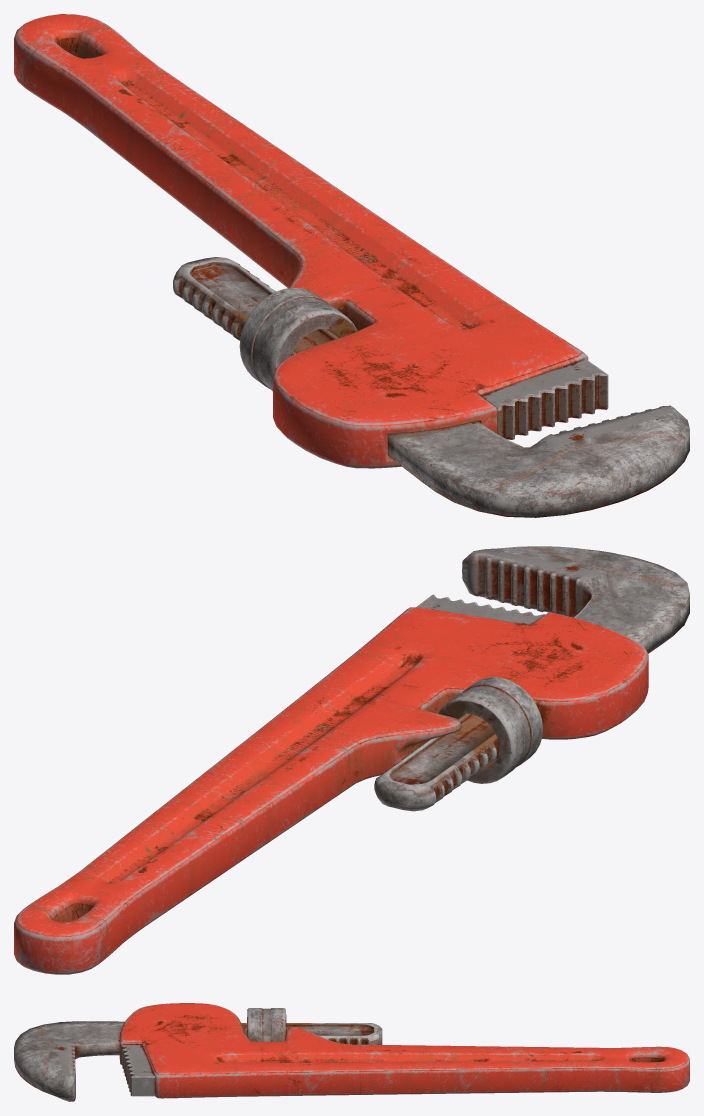
Rendered from wrench.glb.
3 renders of one model, top to bottom at view 1: azimuth 30°, elevation 25°; view 2: azimuth 150°, elevation 25°; view 3: azimuth 270°, elevation 25°, orthographic. The views are drawn at different scales.
Parts seen in each view (by area): view 1: Wrench, xddd, Cube, Circle, Cylinder; view 2: Wrench, xddd, Cylinder, Circle, Cube; view 3: Wrench, xddd, Cylinder, Cube, Circle.
Part boxes in pixels (x1,y1,x2,y2): Wrench: [14, 14, 588, 468]; xddd: [387, 405, 689, 517]; Cube: [480, 358, 608, 439]; Circle: [239, 287, 357, 391]; Cylinder: [173, 257, 338, 355]; Wrench: [14, 607, 648, 974]; xddd: [462, 546, 689, 653]; Cylinder: [374, 713, 541, 811]; Circle: [439, 677, 542, 783]; Cube: [416, 594, 545, 624]; Wrench: [119, 1003, 689, 1098]; xddd: [14, 1021, 124, 1101]; Cylinder: [241, 1023, 382, 1044]; Cube: [121, 1044, 155, 1096]; Circle: [247, 1008, 286, 1041].
Bounding box in the file's own units: 0.1455 × 0.0456 × 0.5336.
1 material, 1 textured.
